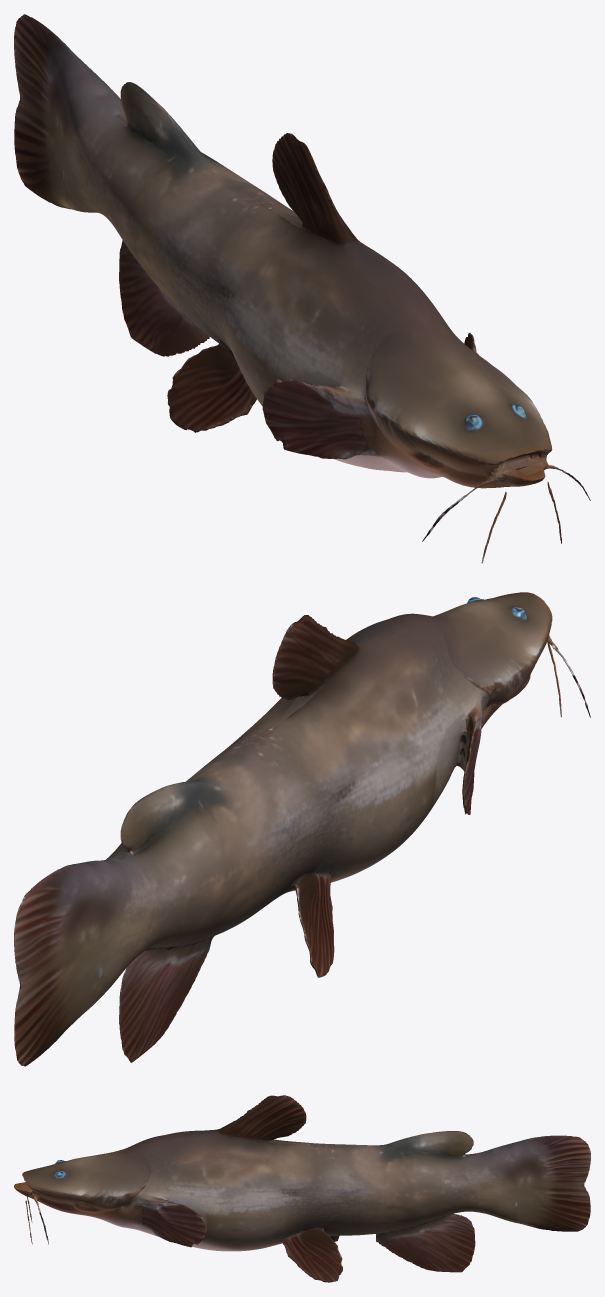
File: flathead-catfish.glb
3 views of the same model, one above another, from view 1: azimuth 30°, elevation 25°; view 2: azimuth 150°, elevation 25°; view 3: azimuth 270°, elevation 25° (orthographic). The views are drawn at different scales.
Visible parts, largest first — view 1: model; view 2: model; view 3: model.
Part boxes in pixels (<box>): model: <box>14,14,590,563</box>; model: <box>14,592,590,1066</box>; model: <box>14,1095,590,1282</box>.
Size of the model in its own units: 0.4205 by 0.6426 by 1.9.
1 material, 1 textured.
